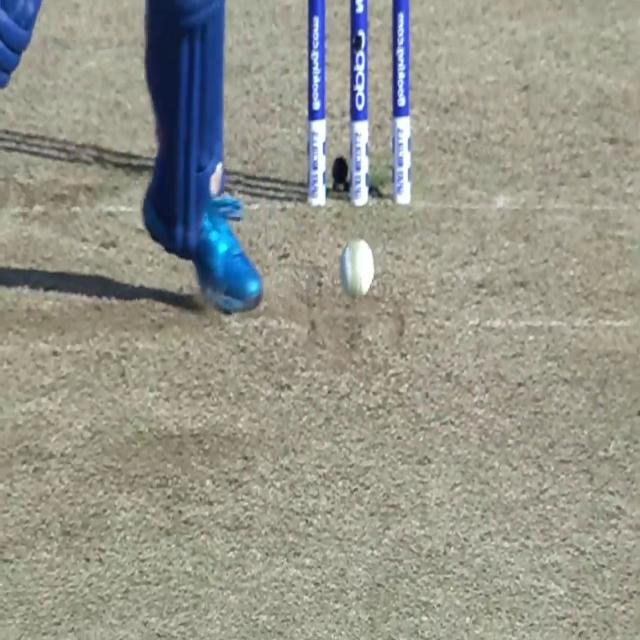ball: (340, 239, 376, 299)
